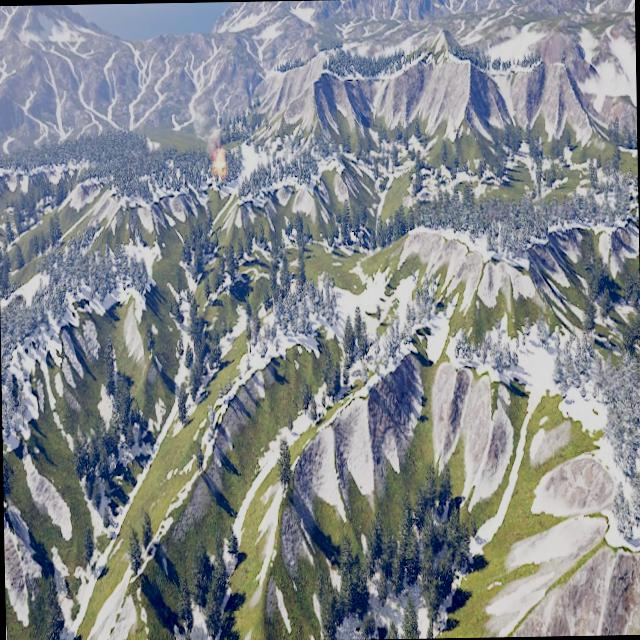fire: (212, 149, 226, 173)
smoke: (194, 103, 222, 151)
